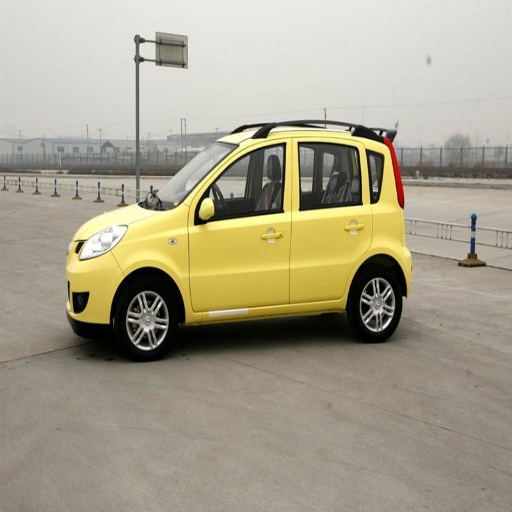front_bumper: (67, 248, 122, 322)
front_left_door: (189, 138, 290, 311)
